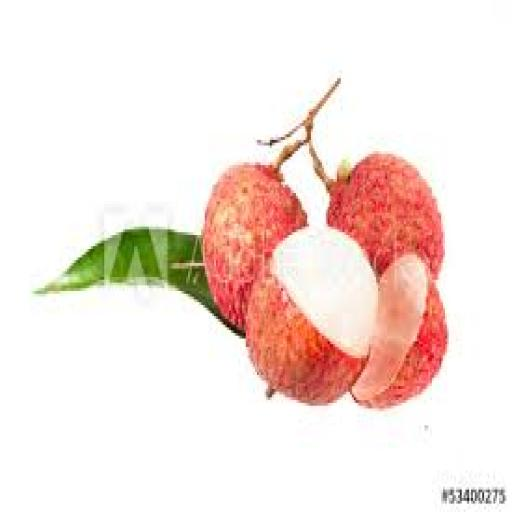lychee: (246, 227, 377, 402), (203, 166, 307, 330), (352, 255, 446, 408), (328, 154, 443, 276)
